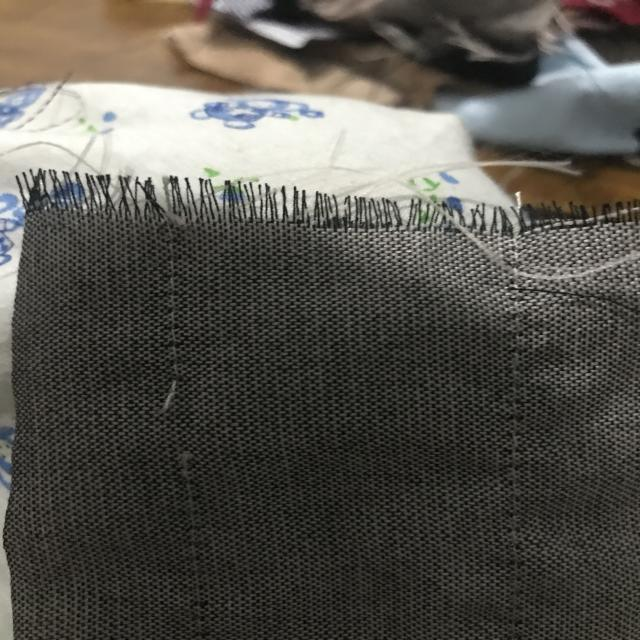broken: (151, 360, 211, 472)
good: (499, 389, 528, 491)
